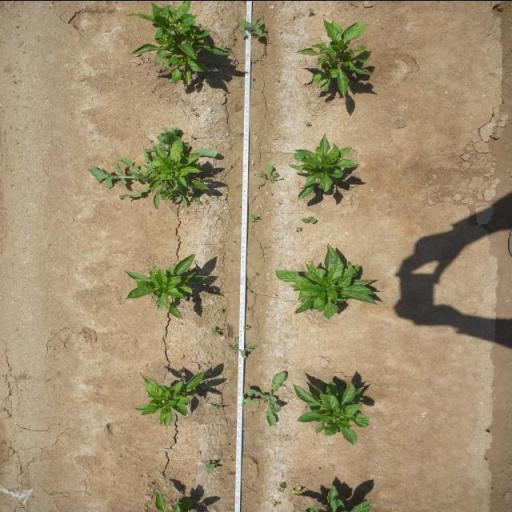plant: (122, 0, 235, 86), (274, 241, 382, 321), (293, 16, 376, 97), (120, 248, 209, 321), (291, 378, 373, 448), (285, 128, 359, 200), (130, 368, 208, 429), (148, 143, 204, 189), (303, 484, 371, 512), (152, 487, 193, 512)
weed: (85, 141, 201, 214), (240, 369, 290, 426), (225, 337, 258, 359), (237, 16, 264, 36), (257, 162, 281, 183), (204, 458, 219, 474), (300, 214, 318, 224), (248, 212, 263, 222), (210, 324, 221, 336), (271, 498, 282, 509), (276, 482, 288, 492), (211, 402, 223, 411), (292, 485, 302, 495), (226, 454, 235, 462), (215, 306, 223, 314), (294, 226, 304, 232), (243, 324, 251, 330), (308, 6, 314, 13), (304, 120, 311, 126), (193, 111, 199, 116), (254, 271, 260, 276), (258, 182, 265, 186)
